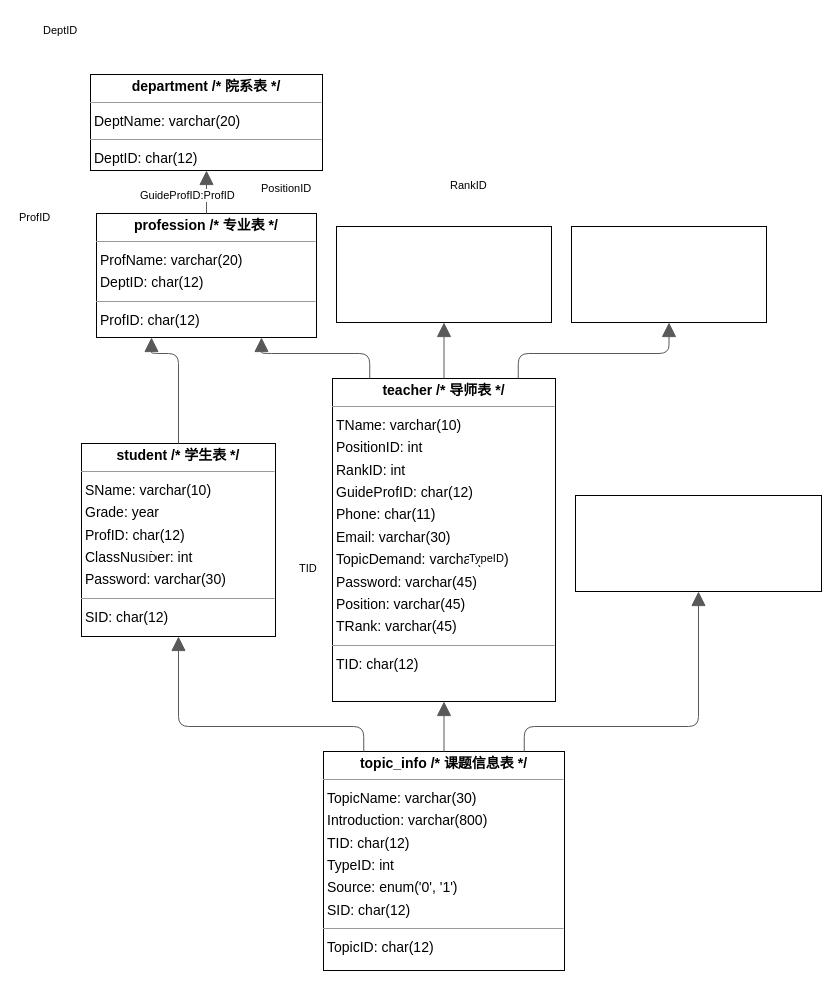
This 839x988 diagram has some shape labels left out. Each missing label, with the centre of its shape:
"position PositionName: varchar(10) PositionID: int" belongs at [444,274].
"rank RankName: varchar(10) RankID: int" belongs at [668,274].
"topic_type /* 课题类型表 */ TypeName: varchar(20) TypeID: int" belongs at [698,543].
